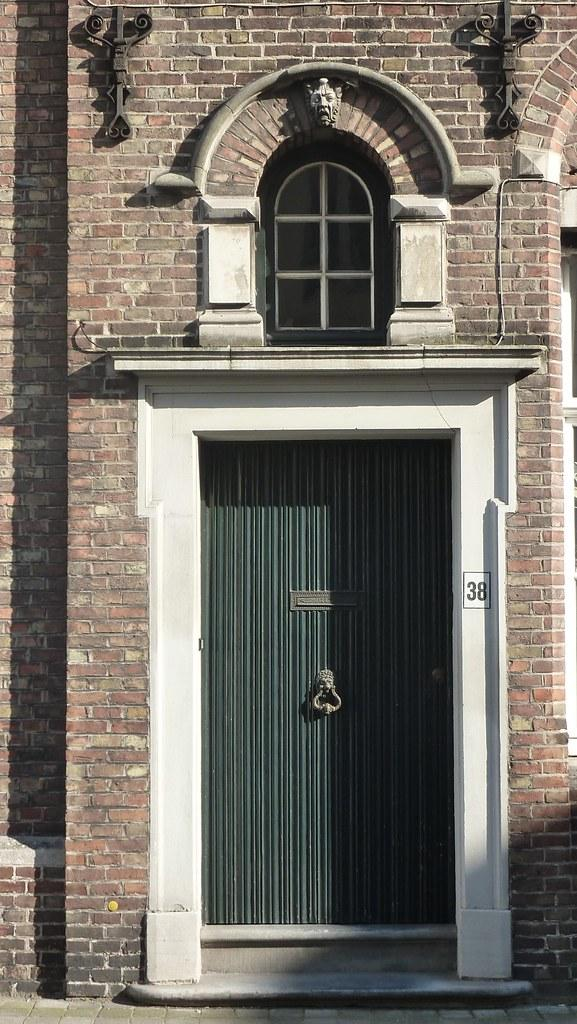door: (199, 431, 455, 929)
